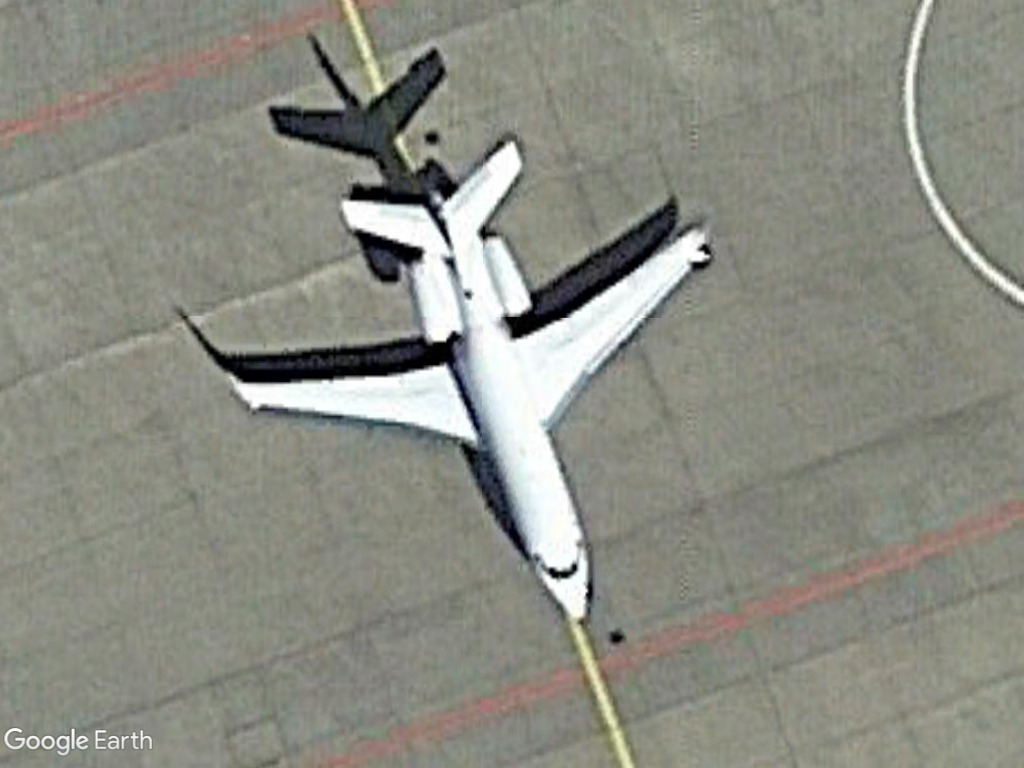chartered: (212, 128, 719, 640)
